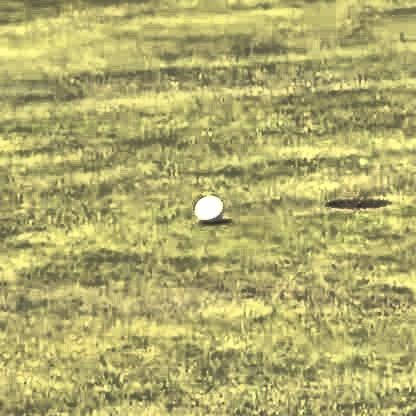golfball: (192, 192, 222, 222)
